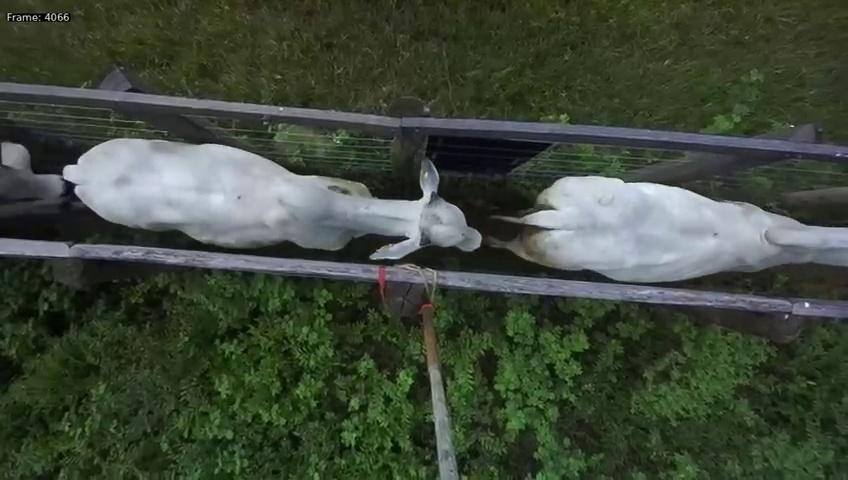cattle: (55, 132, 482, 263)
